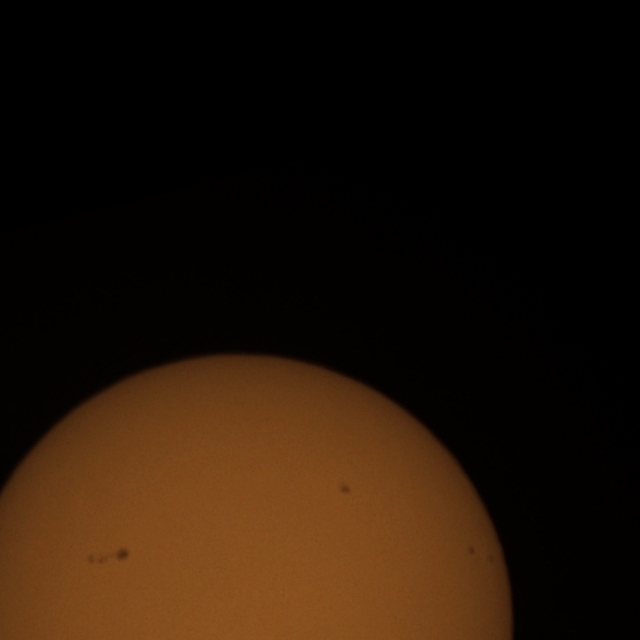sunspot: (84, 546, 130, 568), (338, 482, 352, 496), (466, 544, 476, 557)
